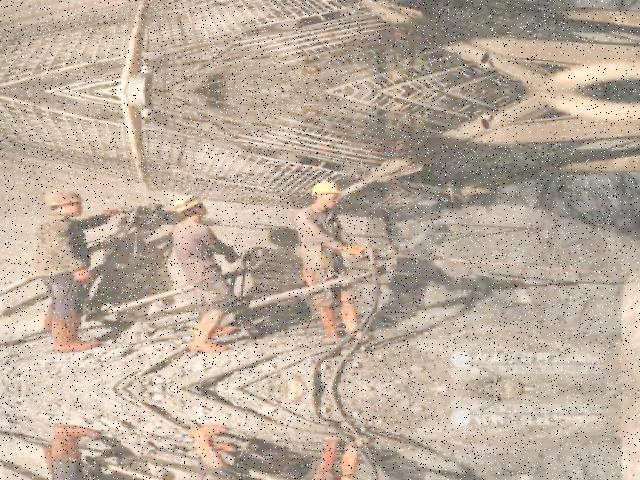Helmet: (37, 184, 84, 215), (164, 192, 208, 220), (302, 175, 343, 205)
